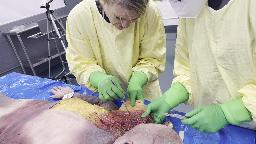scalpel: (112, 80, 132, 114), (163, 112, 191, 120)
